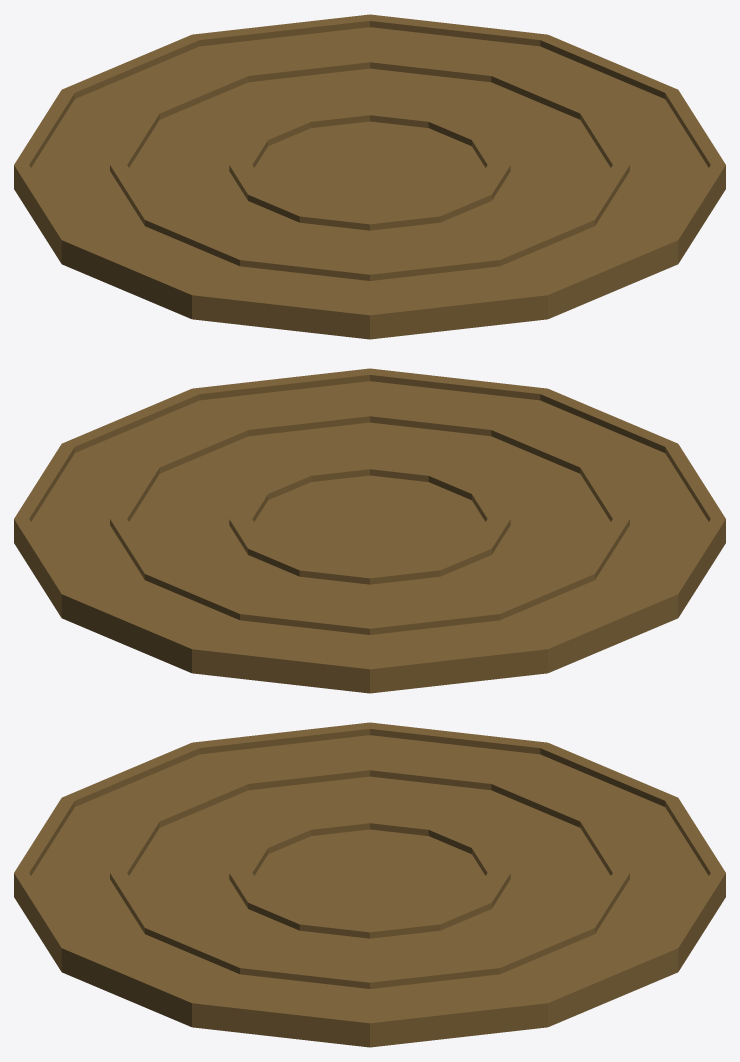
File: ManHole02.fbx
3 renders of one model, top to bottom at view 1: azimuth 30°, elevation 25°; view 2: azimuth 150°, elevation 25°; view 3: azimuth 270°, elevation 25°, orthographic.
Parts seen in each view (by area): view 1: Manhole02; view 2: Manhole02; view 3: Manhole02.
Boxes of the visible parts, left/top/right/bottom form: Manhole02: left=14, top=14, right=725, bottom=339; Manhole02: left=14, top=368, right=725, bottom=693; Manhole02: left=14, top=722, right=725, bottom=1047.
Size of the model in its own units: 200 by 7.49 by 200.
